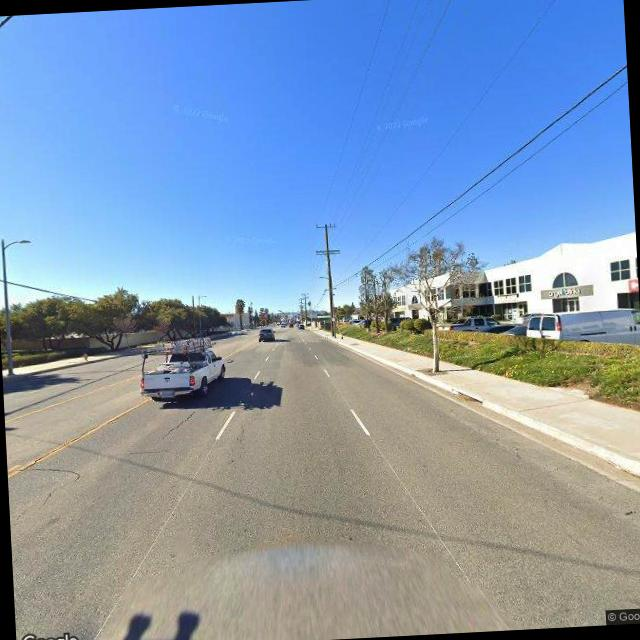crack: (7, 460, 94, 490), (152, 402, 200, 448)
